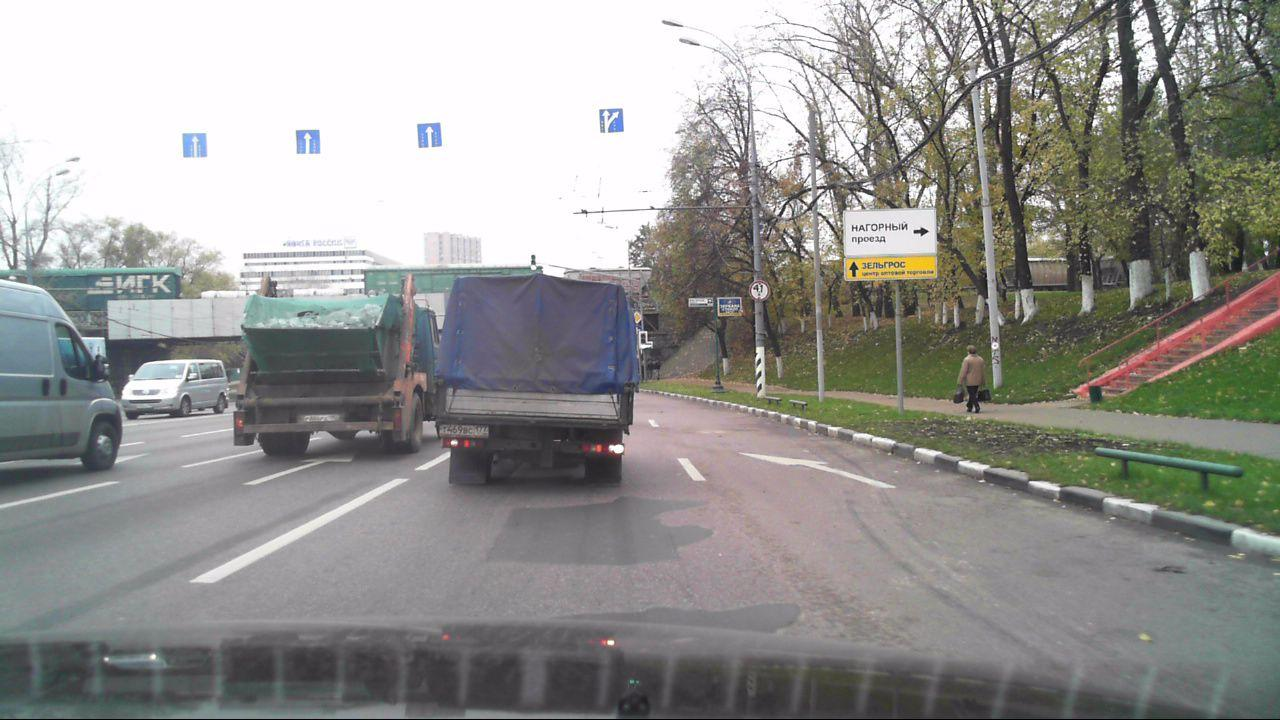2_1: (632, 311, 646, 326)
3_13: (749, 281, 771, 301)
5_15_2: (413, 123, 444, 149), (595, 108, 625, 133), (181, 132, 209, 157), (296, 128, 319, 154)
